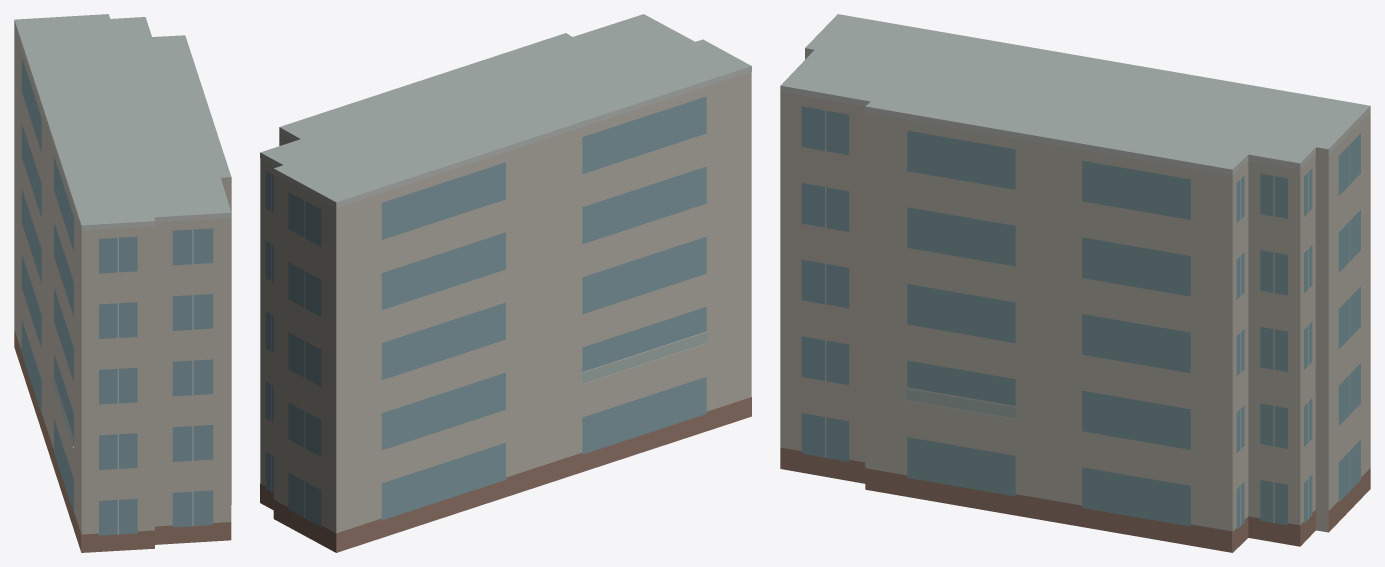
The model's file is survey-upis-32897892.glb.
3 renders of one model, left to right at view 1: azimuth 30°, elevation 25°; view 2: azimuth 150°, elevation 25°; view 3: azimuth 270°, elevation 25°, orthographic. The views are drawn at different scales.
Parts seen in each view (by area): view 1: survey-upis-32897892.tmp; view 2: survey-upis-32897892.tmp; view 3: survey-upis-32897892.tmp.
Part boxes in pixels (x1=…): survey-upis-32897892.tmp: x1=14, y1=14, x2=231, y2=552; survey-upis-32897892.tmp: x1=260, y1=14, x2=751, y2=552; survey-upis-32897892.tmp: x1=780, y1=14, x2=1370, y2=552.
Bounding box in the file's own units: 13.25 × 15.2 × 21.22.
